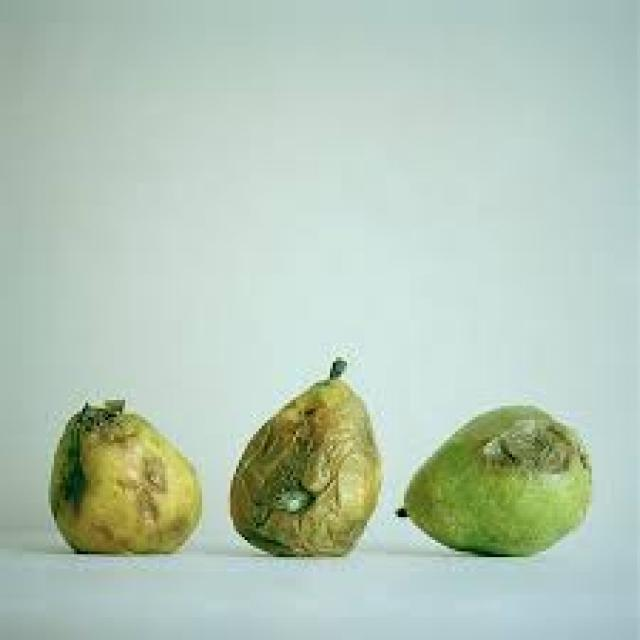organic waste: (225, 354, 384, 557), (395, 403, 589, 554), (45, 397, 202, 554)
